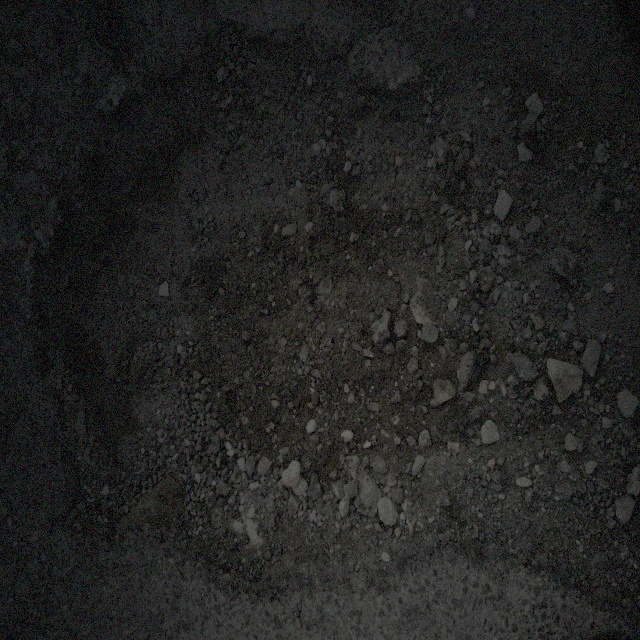pothole: (28, 27, 524, 601)
